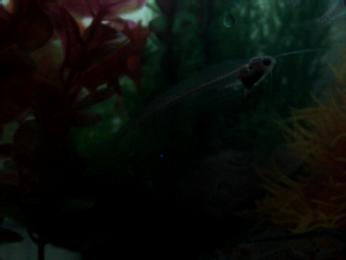glassfish: (126, 54, 277, 133)
